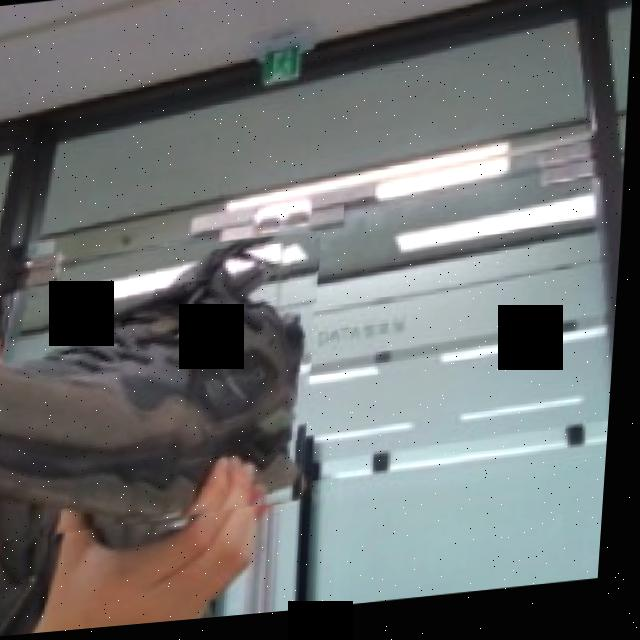shoe: (0, 236, 330, 547)
